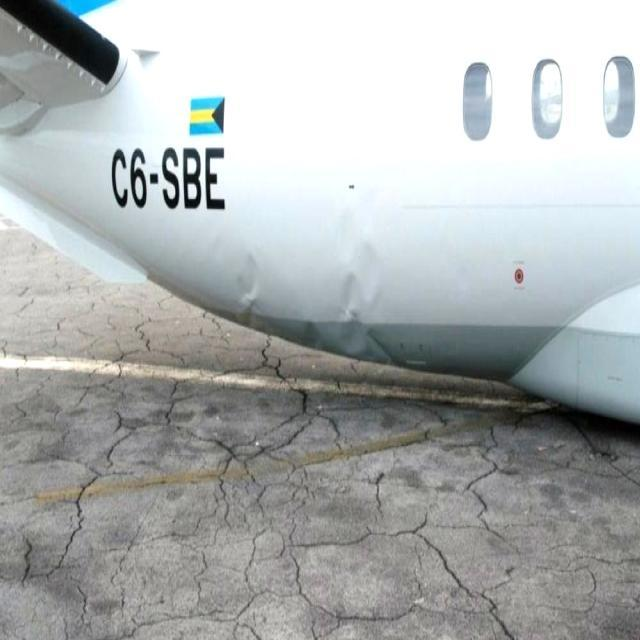dent: (332, 192, 380, 366), (236, 246, 270, 334)
